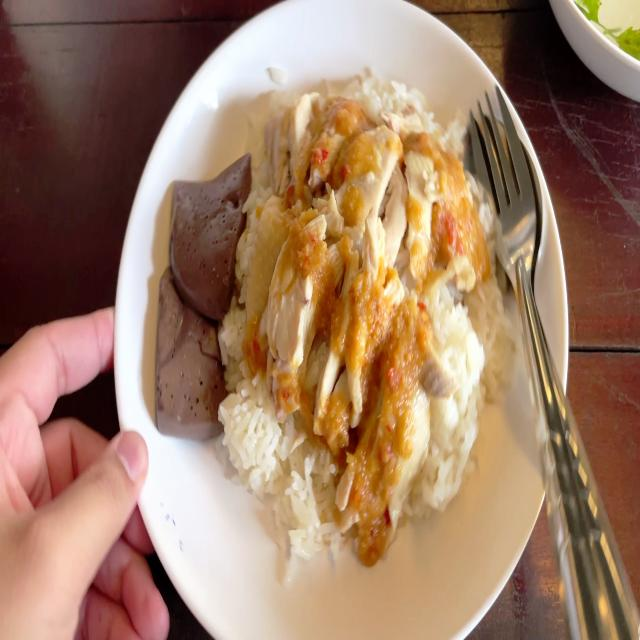boiled_chicken: (263, 88, 441, 482)
boiled_chicken_blood_jelly: (158, 148, 241, 415)
chicken_rice: (148, 64, 523, 582)
